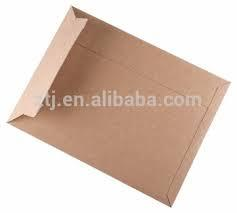Cardboard: (2, 5, 237, 213)
